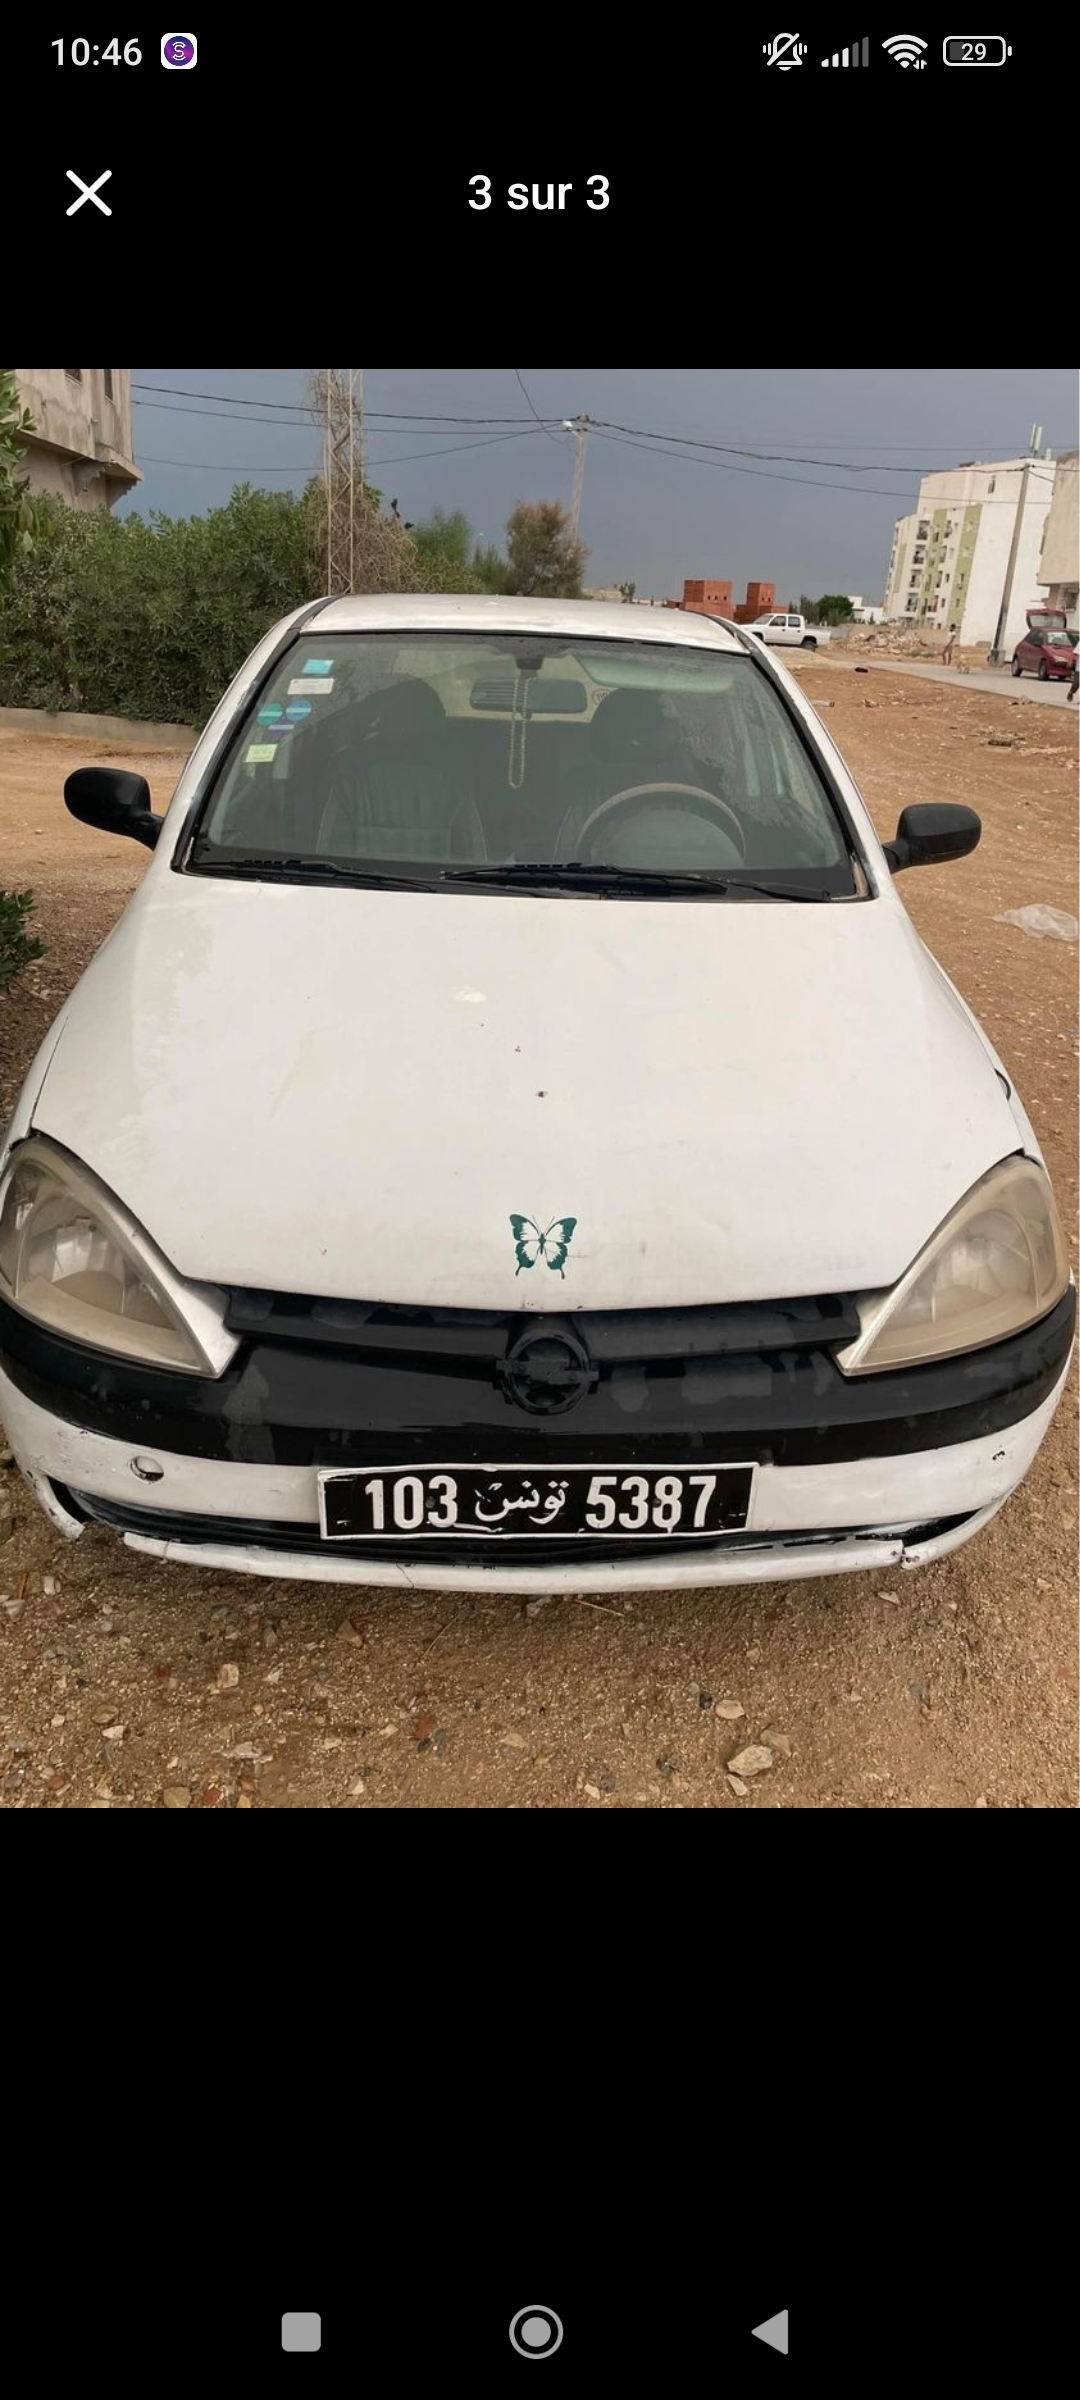porshe: (2, 588, 1074, 1626)
